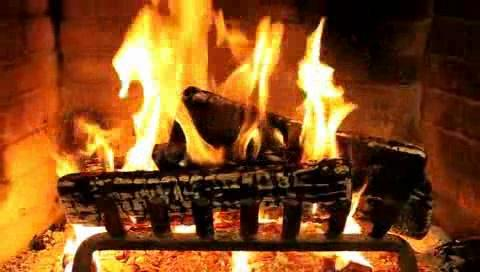fire: (113, 7, 344, 176)
